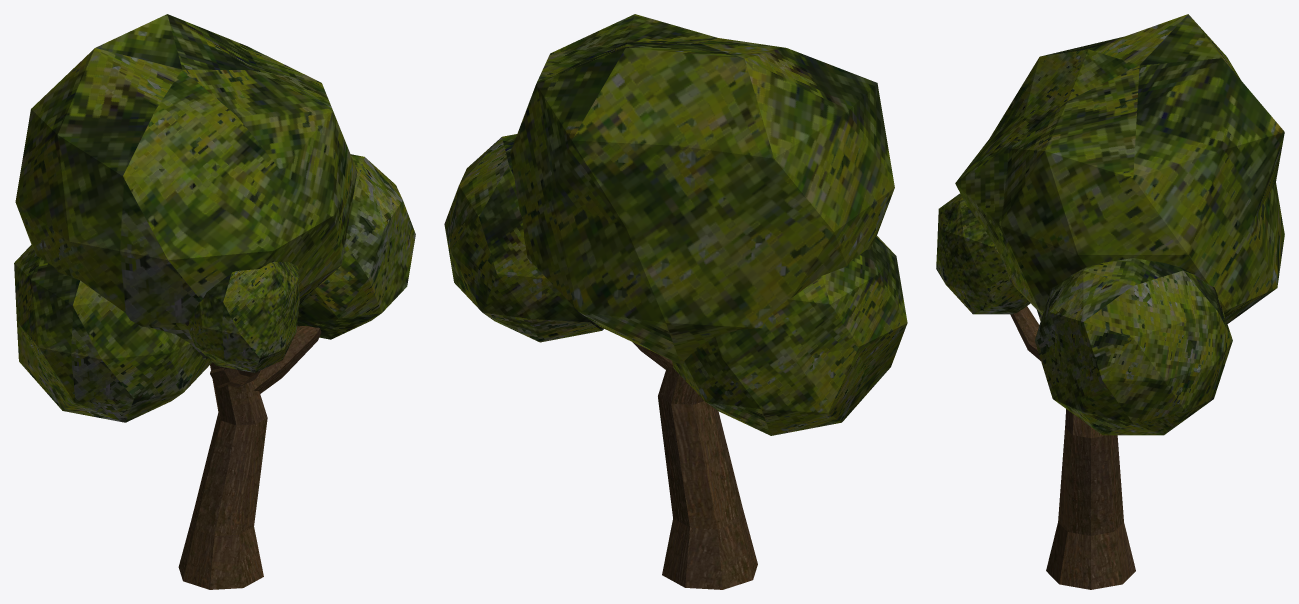
File: tree1.fbx
The picture shows the model from 3 angles, left to right: view 1: azimuth 30°, elevation 25°; view 2: azimuth 150°, elevation 25°; view 3: azimuth 270°, elevation 25°; orthographic projection. The views are drawn at different scales.
Visible parts, largest first — view 1: Icosphere; view 2: Icosphere; view 3: Icosphere.
Part boxes in pixels (box(x1,y1,x2,y2)): Icosphere: box(14, 14, 415, 589); Icosphere: box(444, 14, 907, 589); Icosphere: box(936, 14, 1284, 589).
Bounding box in the file's own units: 991 × 1269 × 774.
